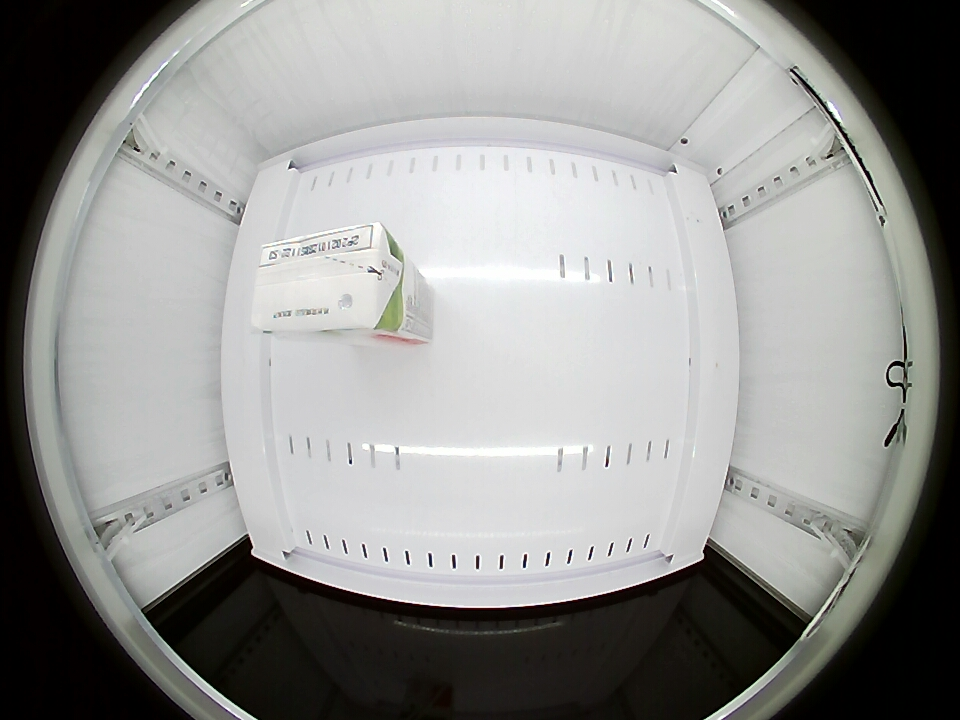mengniu: (250, 221, 403, 335)
